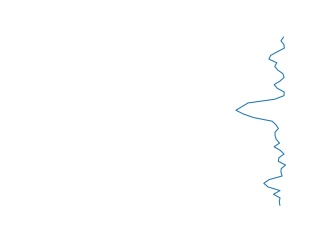interdistributaryEstuary: (232, 37, 294, 206)
